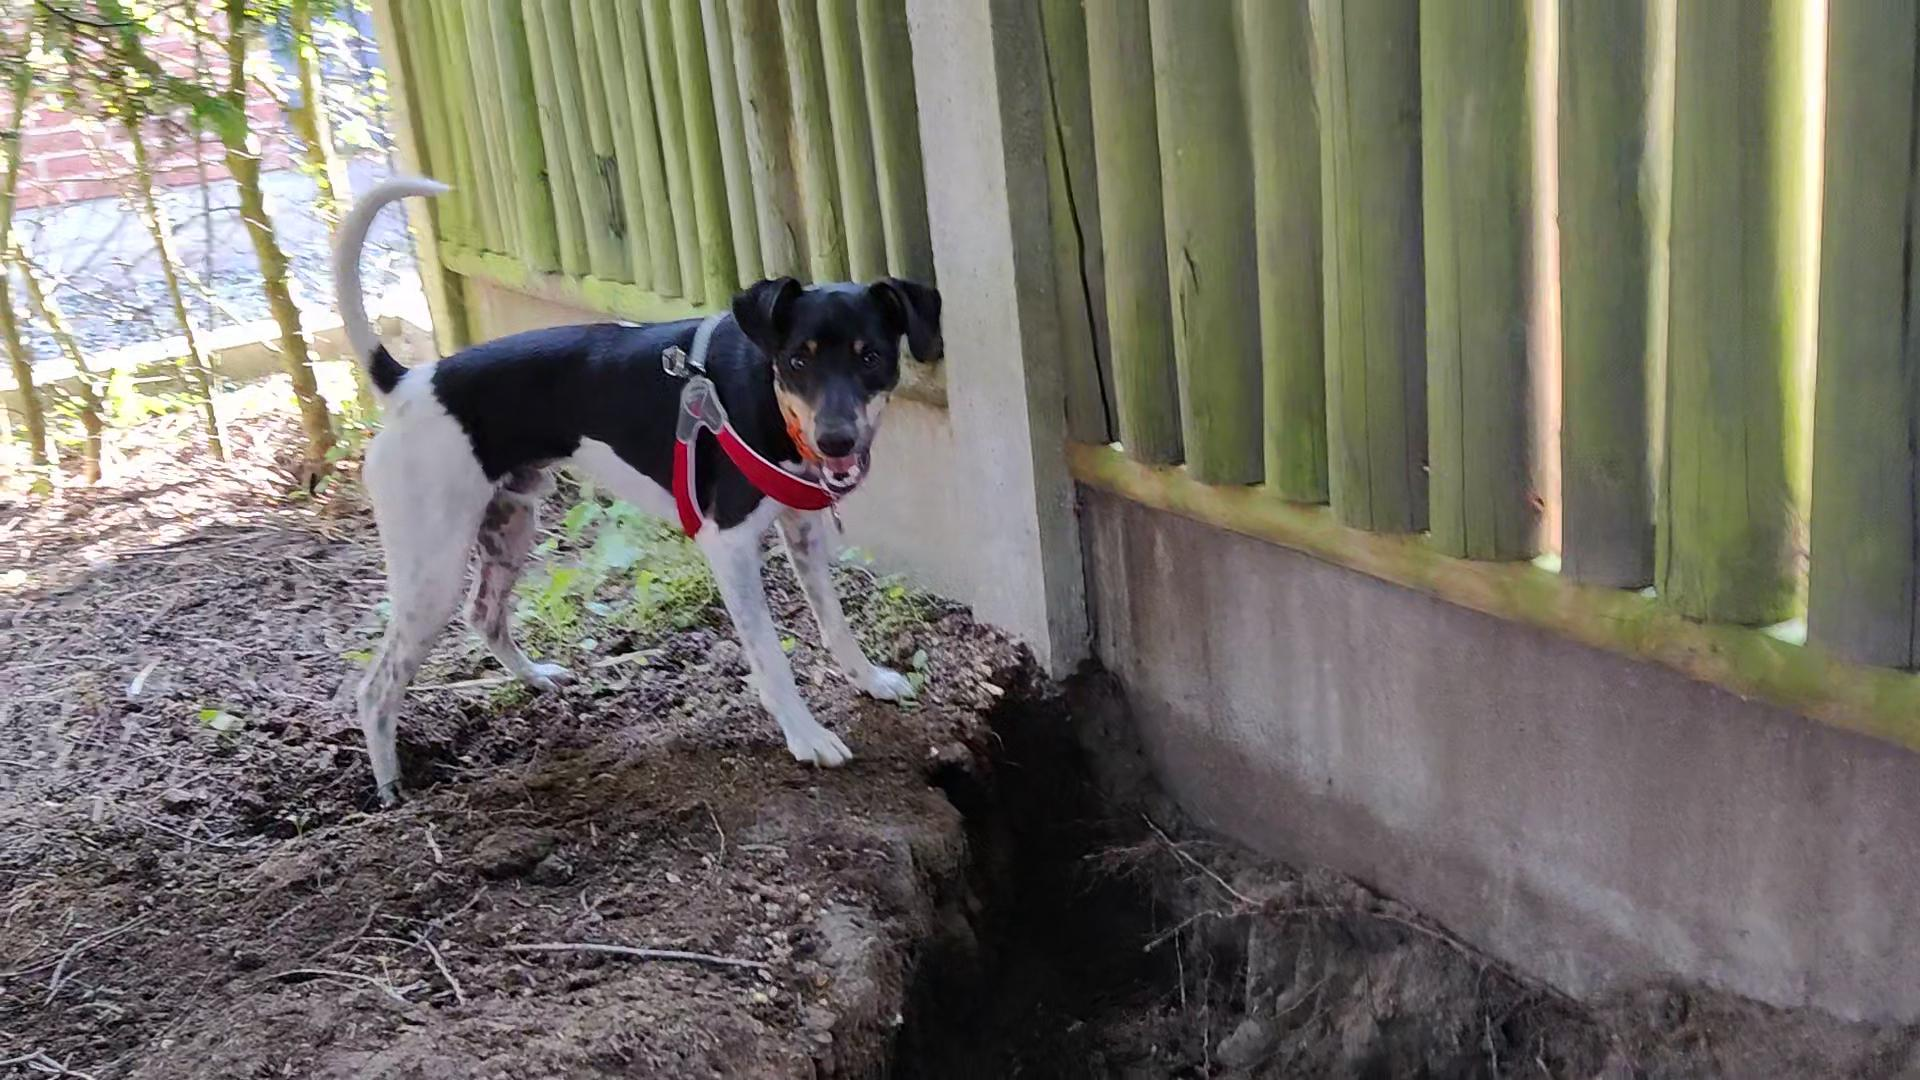Dog: (328, 166, 953, 800)
